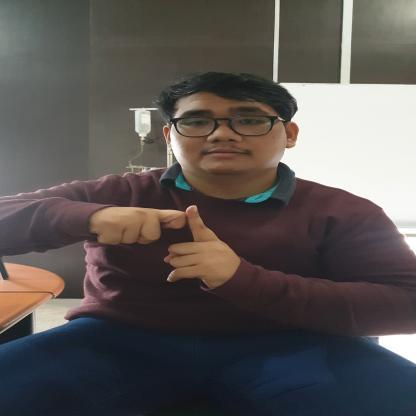K: (84, 204, 241, 292)
